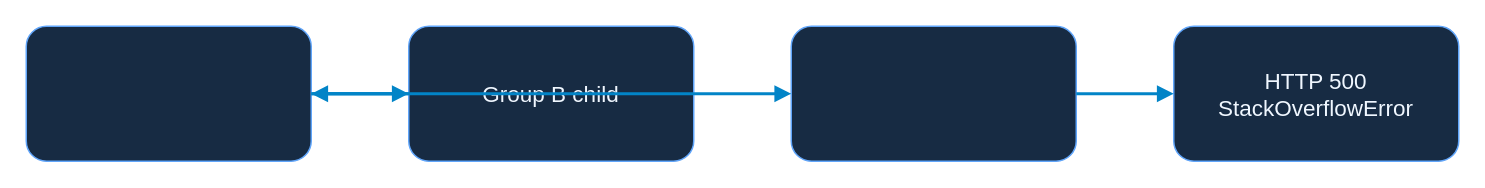
This 1485x188 diagram has some shape labels left out. The shapes that lost their labels are listed below. From the top down, each one's centre as x and y in pixels, then its label:
At point (168, 93): "Group A parent".
At point (933, 93): "Recursive traversal Group A → B → A".
